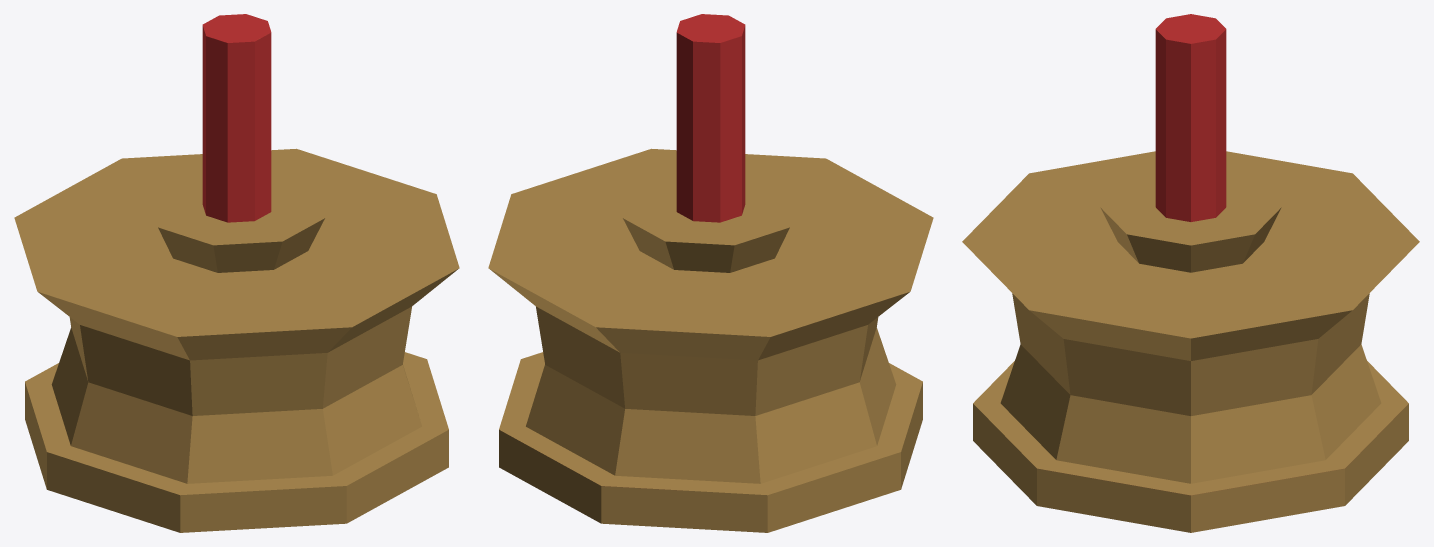
The model's file is candle02.FBX.
3 renders of one model, left to right at view 1: azimuth 30°, elevation 25°; view 2: azimuth 150°, elevation 25°; view 3: azimuth 270°, elevation 25°, orthographic.
Parts seen in each view (by area): view 1: candle02; view 2: candle02; view 3: candle02.
Part boxes in pixels (x1,y1,x2,y2): candle02: [14, 14, 459, 532]; candle02: [488, 14, 933, 532]; candle02: [962, 14, 1419, 532].
Bounding box in the file's own units: 20.05 × 19.9 × 20.05.
Materials: 1 (1 with a texture image).
